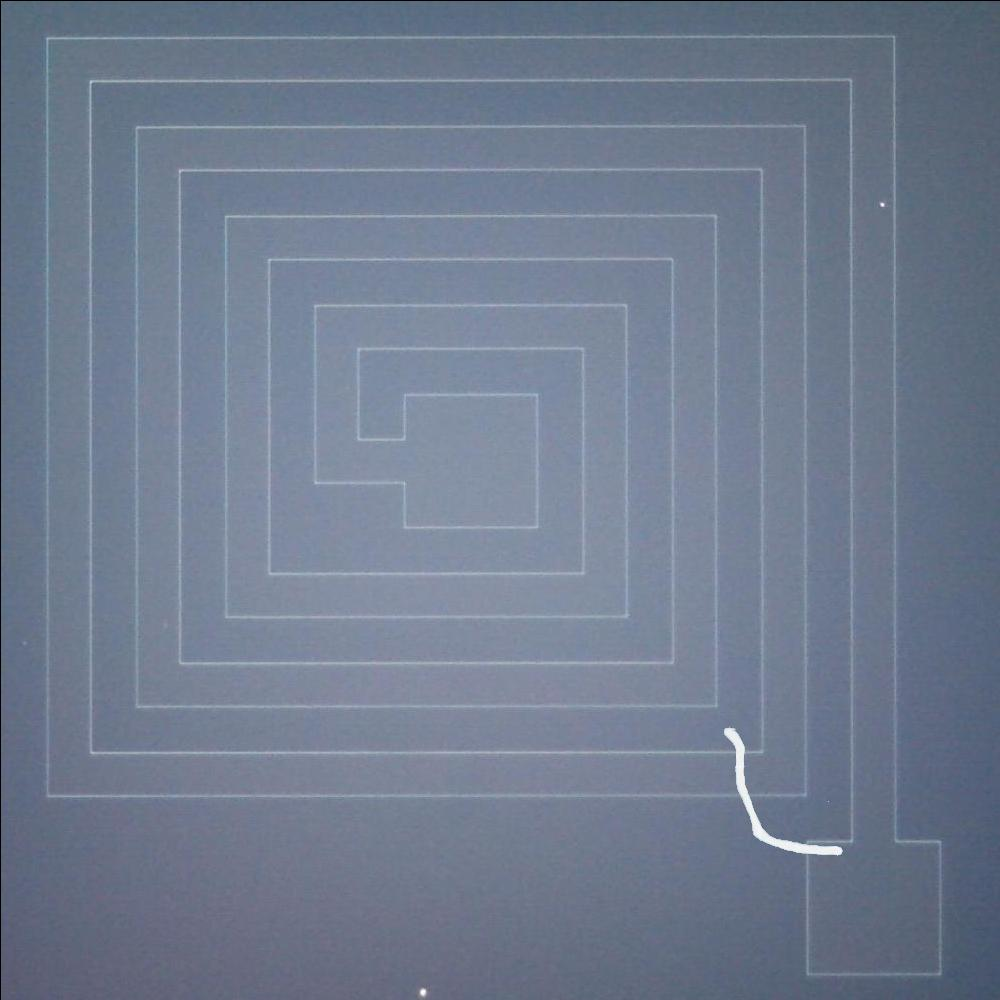dot: (870, 190, 891, 216), (410, 978, 434, 998)
line: (716, 718, 849, 862)
